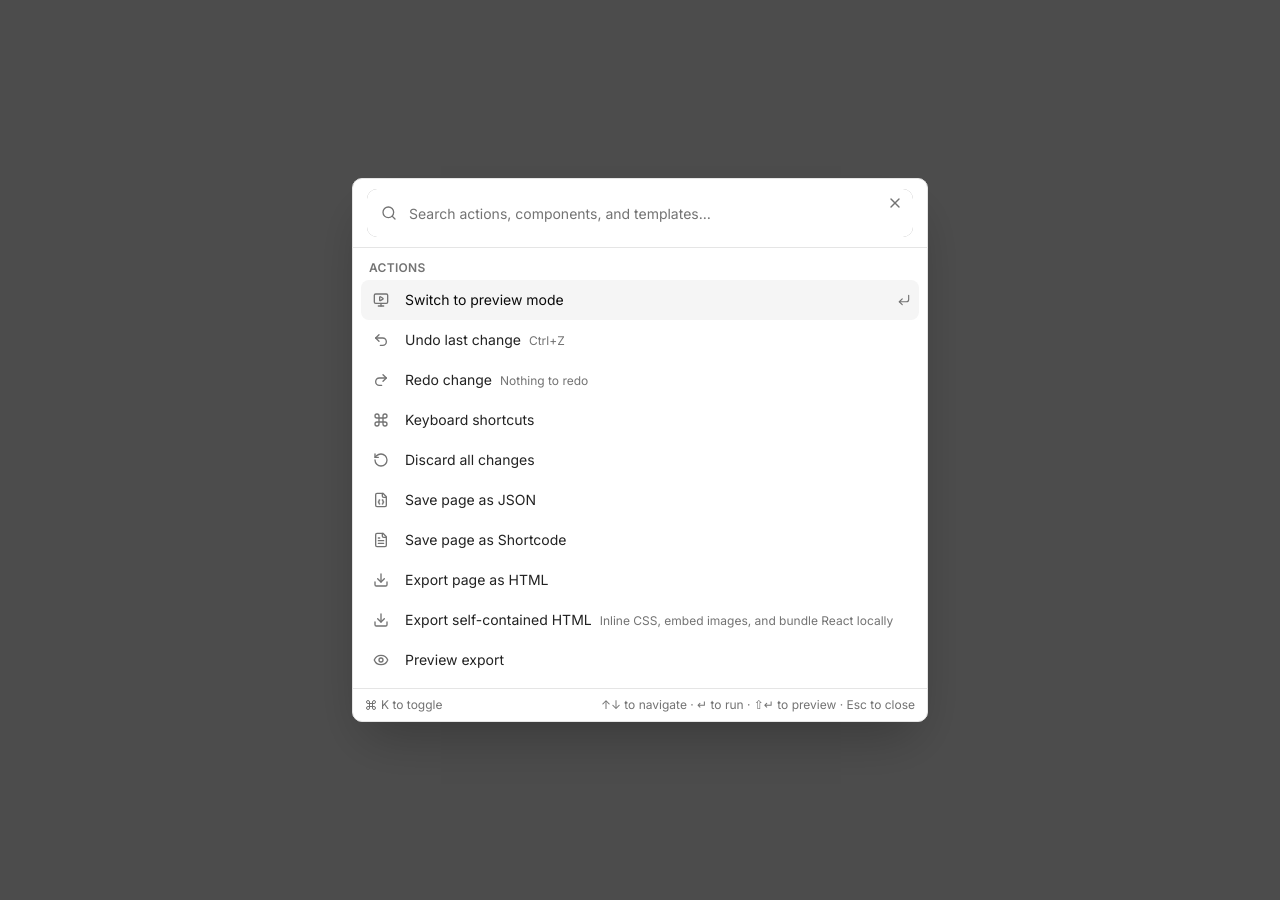
Test: CommandPalette › filters commands by search term
The image size is (1280, 900).
In the field with placeholder "Search actions, components, and templates…": (640, 213) [369, 191, 911, 235], type "undo last"
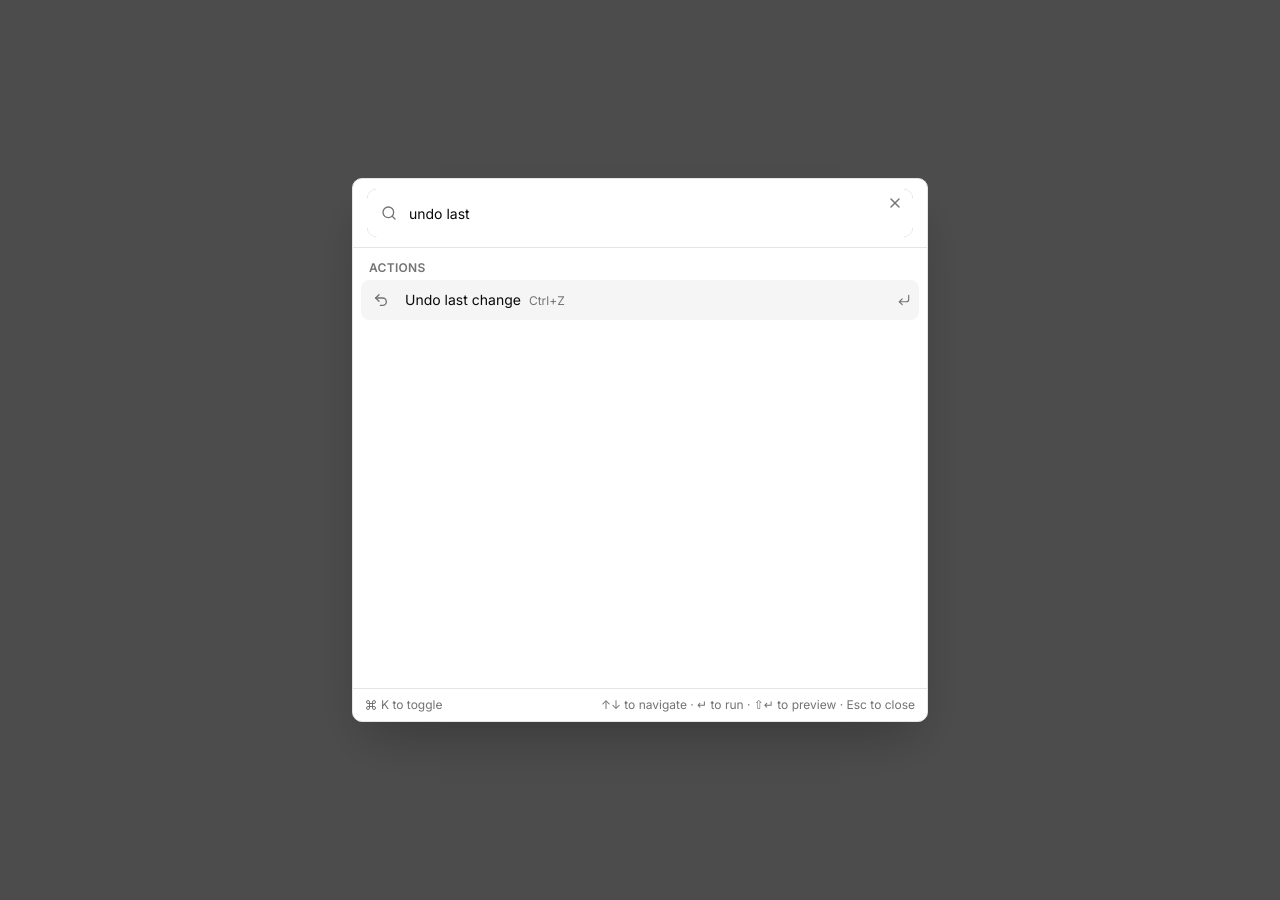
Check: the text "Undo last change" is shown, box [405, 291, 521, 308]
Check: the button "Redo change" is gone
